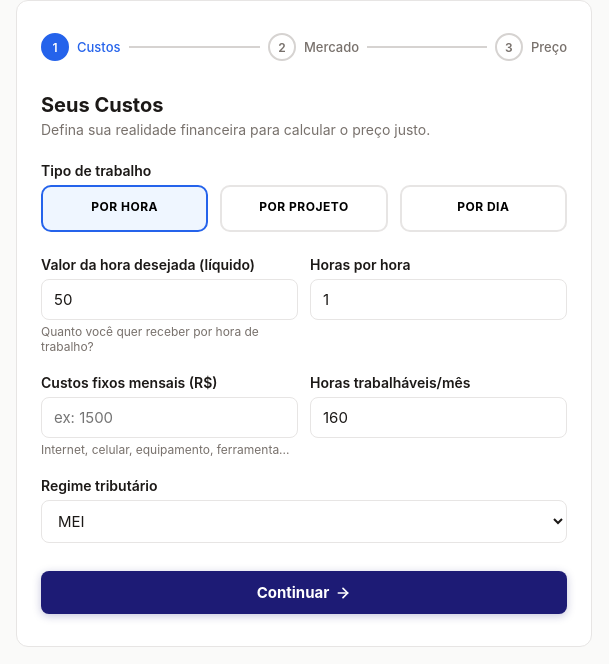
Test: Calculator › renders experience level options in step 2
The width and height of the screenshot is (609, 664).
What coordinates should you click on to do the following:
click the button "Continuar"
I would click on:
 (304, 592)
Its box is x1=41 y1=571 x2=567 y2=614.
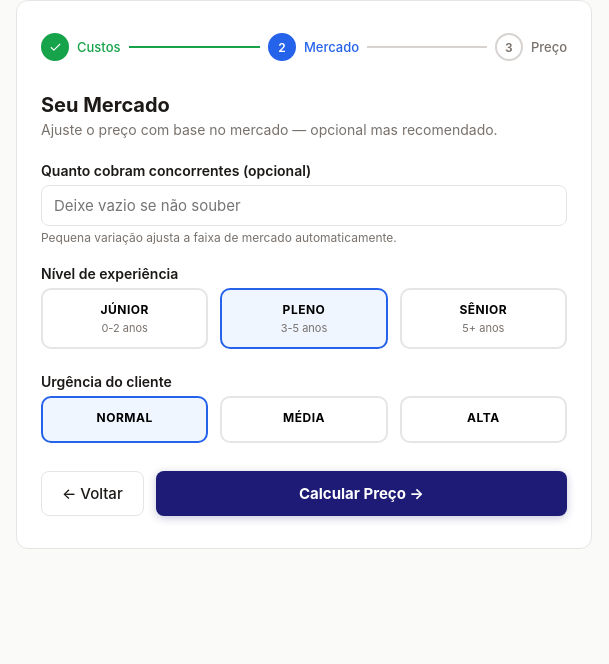
Expected: the text "Pleno" is shown, x1=283 y1=302 x2=325 y2=317
Expected: the text "Sênior" is shown, x1=459 y1=302 x2=507 y2=317
